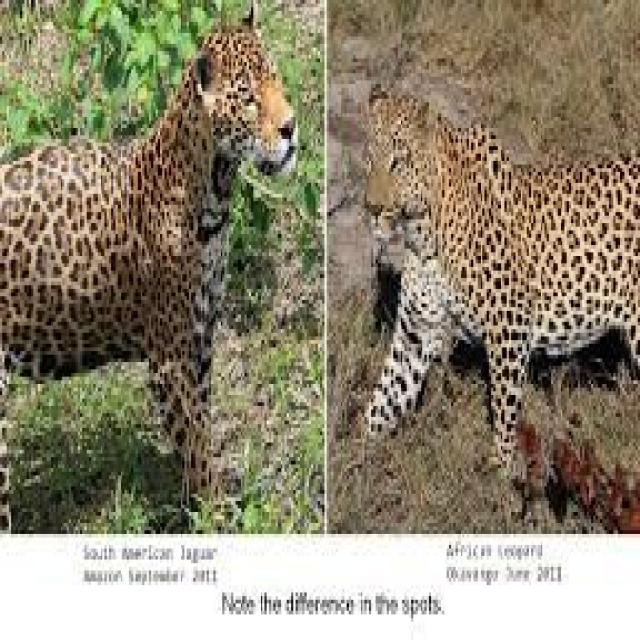Jaguar: (29, 8, 298, 508)
Leopard: (351, 73, 640, 530)
